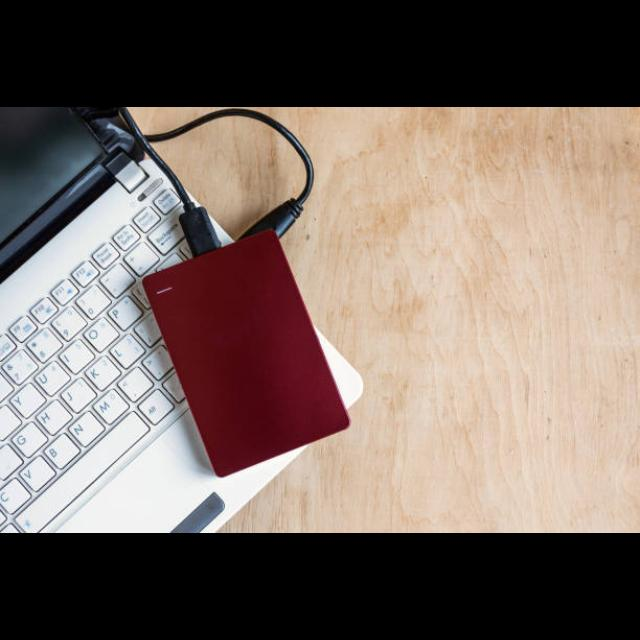HDD: (141, 230, 350, 479)
